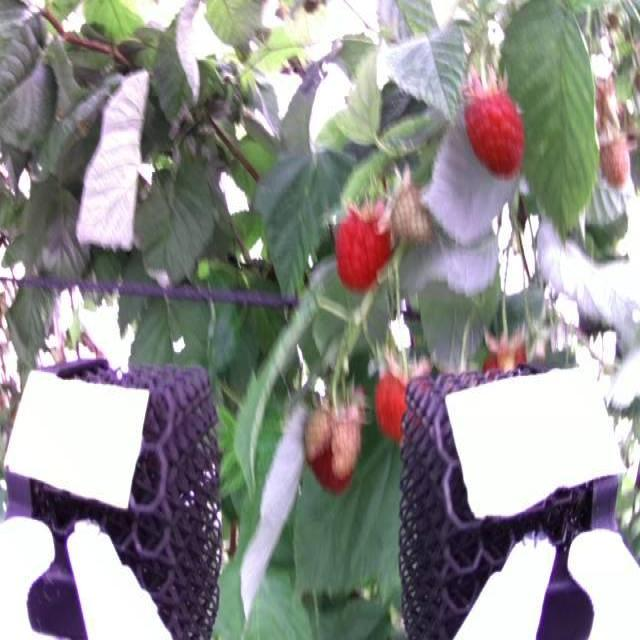Riped berries: (459, 78, 534, 181), (307, 401, 362, 487), (336, 202, 392, 286), (376, 359, 423, 436), (485, 333, 527, 380)
